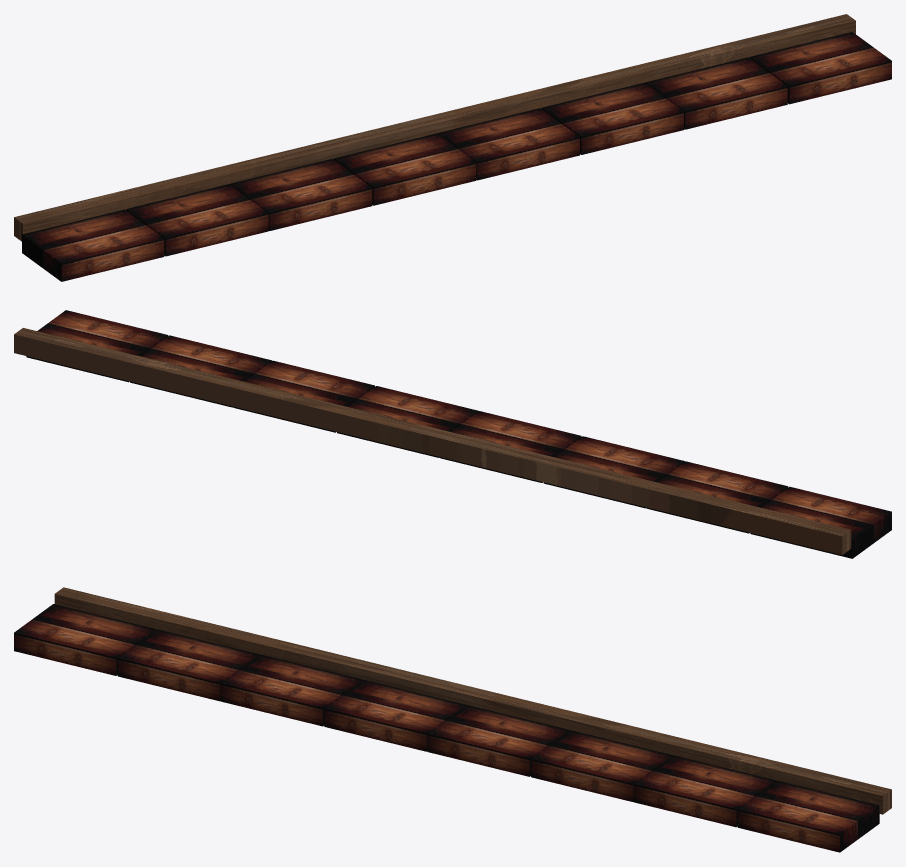
The model's file is Suelo.fbx.
3 views of the same model, one above another, from view 1: azimuth 30°, elevation 25°; view 2: azimuth 150°, elevation 25°; view 3: azimuth 330°, elevation 25° (orthographic).
Visible parts, largest first — view 1: Suelo_Madera.001, Suelo_Madera.003, Plataforma_SUleo.001; view 2: Plataforma_SUleo.001, Suelo_Madera.001, Suelo_Madera.003; view 3: Suelo_Madera.003, Suelo_Madera.001, Plataforma_SUleo.001.
Boxes of the visible parts, x1=… form: Suelo_Madera.001: x1=22, y1=133, x2=476, y2=281; Suelo_Madera.003: x1=437, y1=32, x2=891, y2=180; Plataforma_SUleo.001: x1=14, y1=14, x2=855, y2=241; Plataforma_SUleo.001: x1=14, y1=328, x2=851, y2=554; Suelo_Madera.001: x1=440, y1=411, x2=891, y2=558; Suelo_Madera.003: x1=26, y1=310, x2=478, y2=457; Suelo_Madera.003: x1=427, y1=705, x2=879, y2=852; Suelo_Madera.001: x1=14, y1=604, x2=465, y2=751; Plataforma_SUleo.001: x1=54, y1=587, x2=891, y2=814.
Bounding box in the file's own units: 3014 × 99.56 × 305.
Materials: 2 (2 with a texture image).
